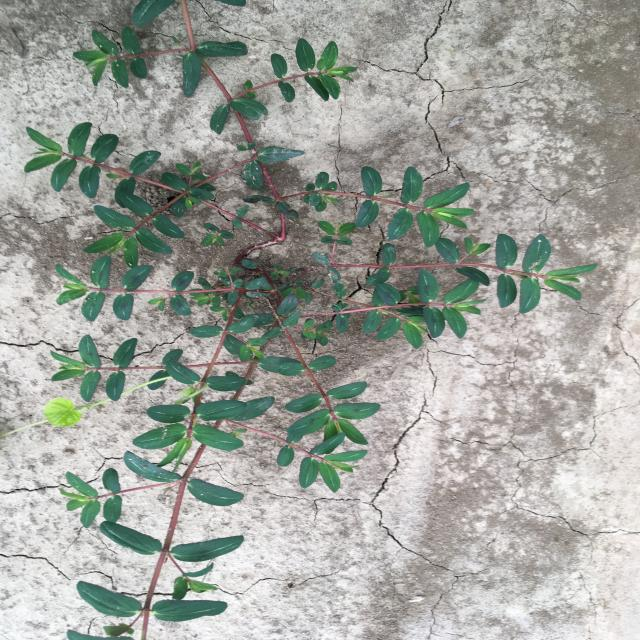SpottedSpurge: (24, 0, 598, 640)
